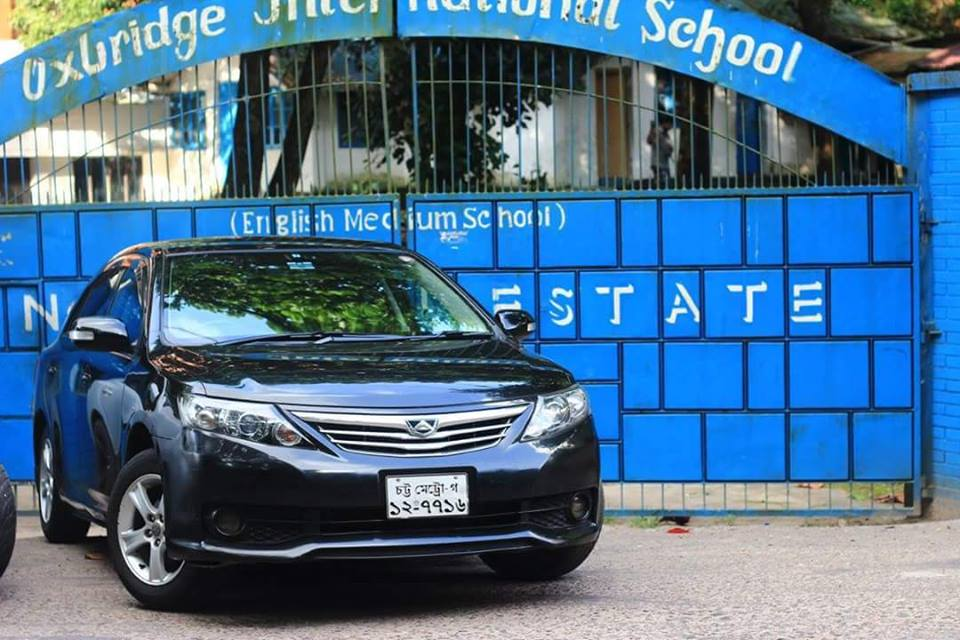registration_plate: (383, 472, 470, 519)
